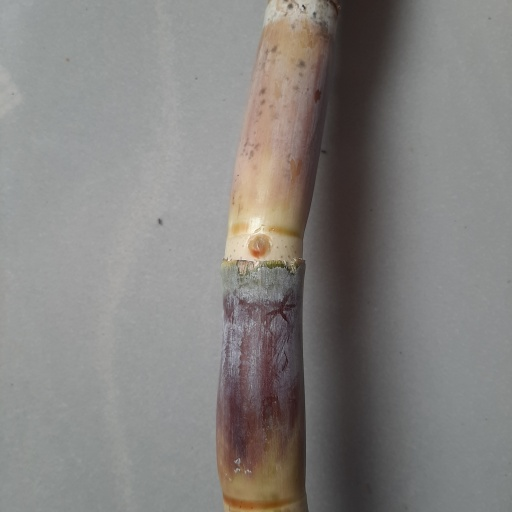Bud: (247, 233, 272, 260)
